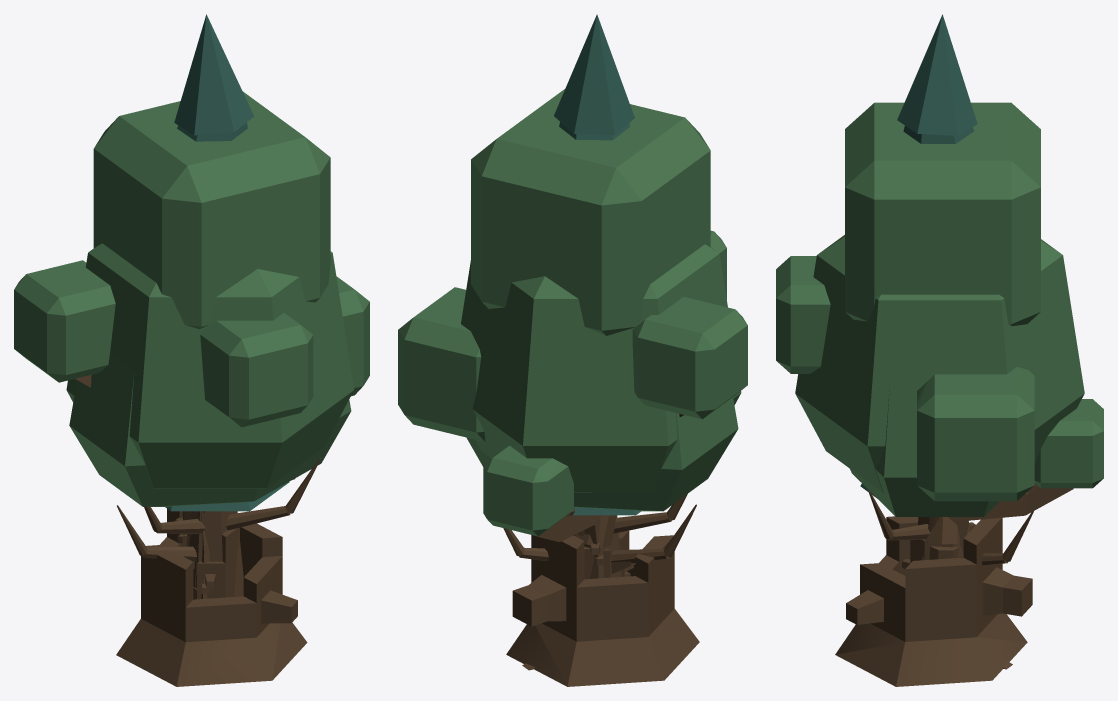
File: vado_arboles.glb
3 views of the same model, side by side, from view 1: azimuth 30°, elevation 25°; view 2: azimuth 150°, elevation 25°; view 3: azimuth 270°, elevation 25° (orthographic).
Visible parts, largest first — view 1: roble_02__tree_detailed, roble_01__tree_oak, arbol_muerto_02__stump_old, roble_03__tree_oak_dark, pino_04__tree_pineTallD_detailed, arbol_muerto_01__stump_oldTall, pino_03__tree_pineTallC_detailed, arbol_muerto_02__rama.002, arbol_muerto_01__rama.002; view 2: roble_02__tree_detailed, roble_01__tree_oak, arbol_muerto_02__stump_old, roble_03__tree_oak_dark, pino_04__tree_pineTallD_detailed, arbol_muerto_01__rama.002, arbol_muerto_02__tronco_torcido.001, arbol_muerto_02__rama; view 3: roble_02__tree_detailed, roble_01__tree_oak, arbol_muerto_02__stump_old, roble_03__tree_oak_dark, pino_04__tree_pineTallD_detailed, arbol_muerto_01__tronco_torcido.001, arbol_muerto_01__stump_oldTall, arbol_muerto_02__rama.002.
Boxes of the visible parts, x1,y1,x2,y2 form: roble_02__tree_detailed: (14,91,369,598); roble_01__tree_oak: (66,243,354,588); arbol_muerto_02__stump_old: (116,509,307,686); roble_03__tree_oak_dark: (69,352,351,593); pino_04__tree_pineTallD_detailed: (174,14,253,141); arbol_muerto_01__stump_oldTall: (182,527,239,599); pino_03__tree_pineTallC_detailed: (165,482,289,511); arbol_muerto_02__rama.002: (226,506,290,530); arbol_muerto_01__rama.002: (156,518,205,533); roble_02__tree_detailed: (398,89,747,578); roble_01__tree_oak: (461,244,741,670); arbol_muerto_02__stump_old: (506,530,699,686); roble_03__tree_oak_dark: (467,397,738,577); pino_04__tree_pineTallD_detailed: (554,14,634,140); arbol_muerto_01__rama.002: (613,512,671,533); arbol_muerto_02__tronco_torcido.001: (574,515,616,547); arbol_muerto_02__rama: (611,548,669,563); roble_02__tree_detailed: (776,102,1103,560); roble_01__tree_oak: (795,235,1084,669); arbol_muerto_02__stump_old: (835,516,1032,686); roble_03__tree_oak_dark: (850,379,999,516); pino_04__tree_pineTallD_detailed: (897,14,977,143); arbol_muerto_01__tronco_torcido.001: (927,517,960,544); arbol_muerto_01__stump_oldTall: (910,533,953,562); arbol_muerto_02__rama.002: (887,524,929,540).
Bounding box in the file's own units: 5.47 × 10.5 × 4.92.
